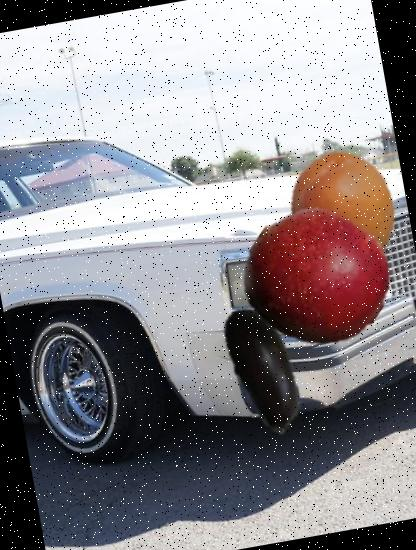Apricot: (272, 142, 412, 282)
Eggplant: (186, 290, 344, 450)
Nectarine: (232, 195, 400, 362)
